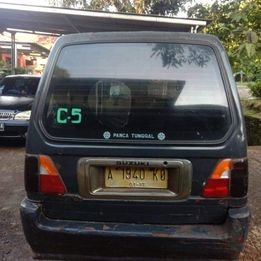plate: (103, 164, 169, 191)
